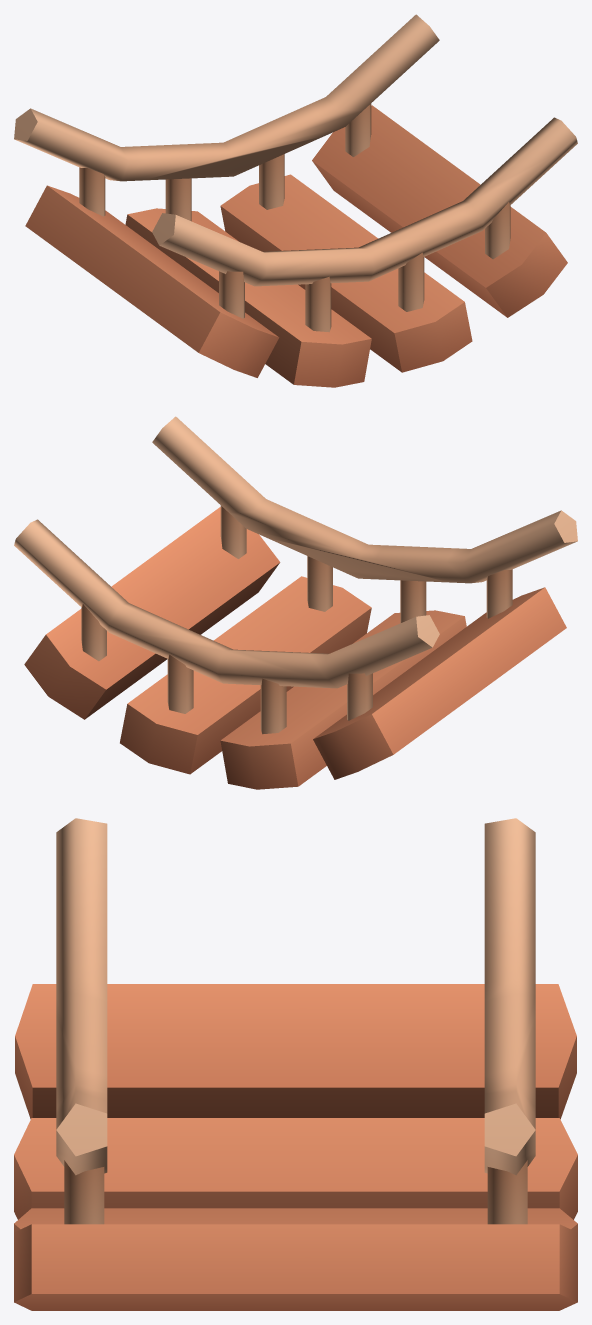
Rendered from bridge.obj.
3 renders of one model, top to bottom at view 1: azimuth 30°, elevation 25°; view 2: azimuth 150°, elevation 25°; view 3: azimuth 270°, elevation 25°, orthographic. The views are drawn at different scales.
Parts seen in each view (by area): view 1: bridge; view 2: bridge; view 3: bridge.
Boxes of the visible parts, bbox=[...] form: bridge: bbox=[14, 14, 577, 387]; bridge: bbox=[14, 416, 577, 789]; bridge: bbox=[14, 818, 577, 1310].
Size of the model in its own units: 1.04 by 0.4729 by 0.8011.
Materials: 1 (1 with a texture image).
